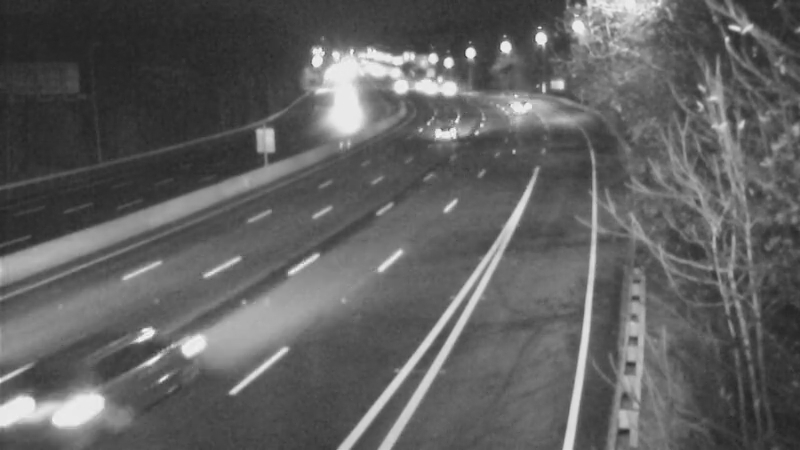vehicle: (1, 350, 109, 450), (422, 59, 472, 109), (376, 63, 426, 113), (403, 63, 453, 113), (493, 77, 543, 127), (424, 109, 474, 159)
